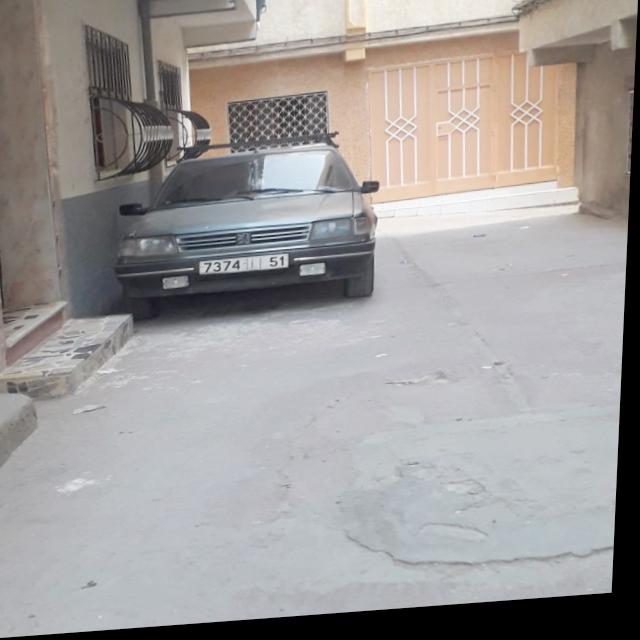License-Plate: (202, 258, 292, 279)
